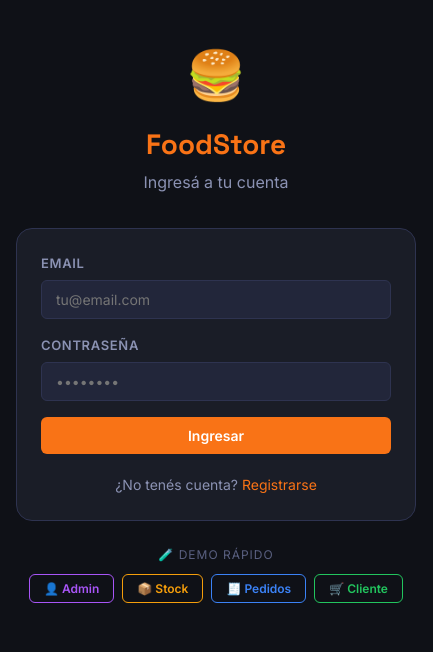
Test: LoginPage › shows network error when no response
Type "a@b.com" into the field with placeholder "tu@email.com" at x=216, y=299, box [41,280,391,319]
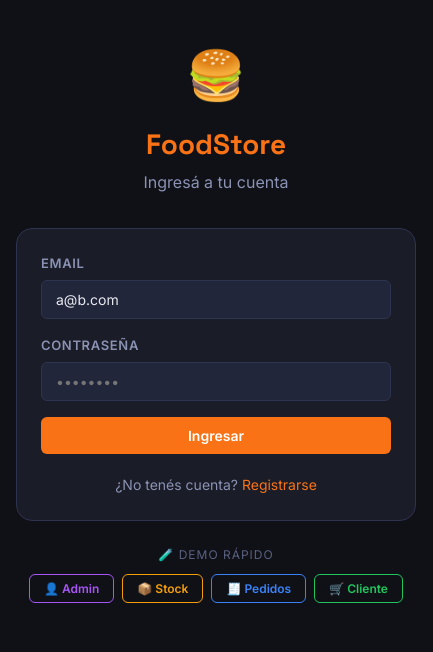
Type "12345678" into the password field with placeholder "••••••••" at x=216, y=381, box [41,362,391,401]
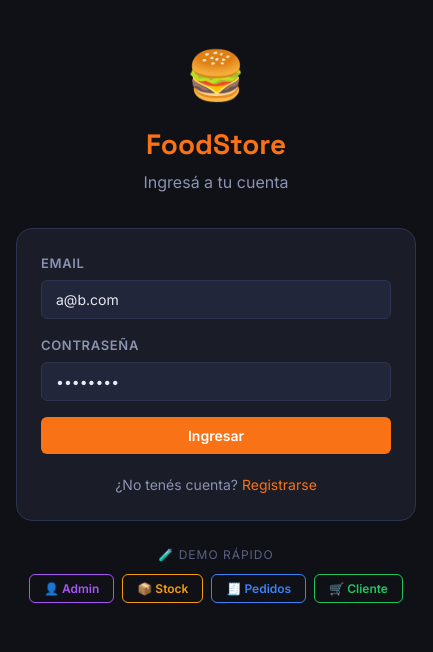
Click the button "Ingresar" at x=216, y=435, box [41,417,391,454]
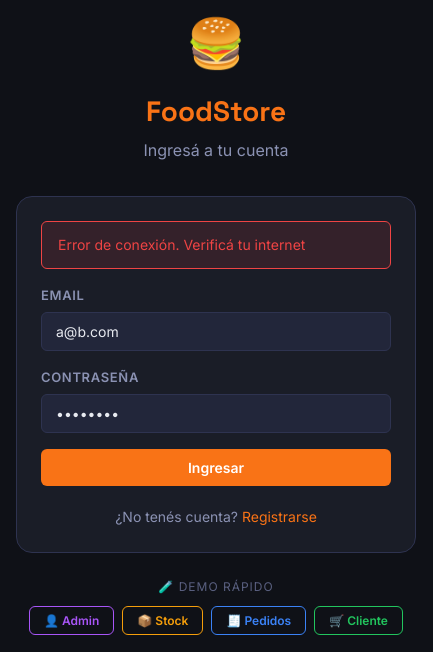
Result: the text "Error de conexión. Verificá tu internet" is shown at [41,221,391,269]
